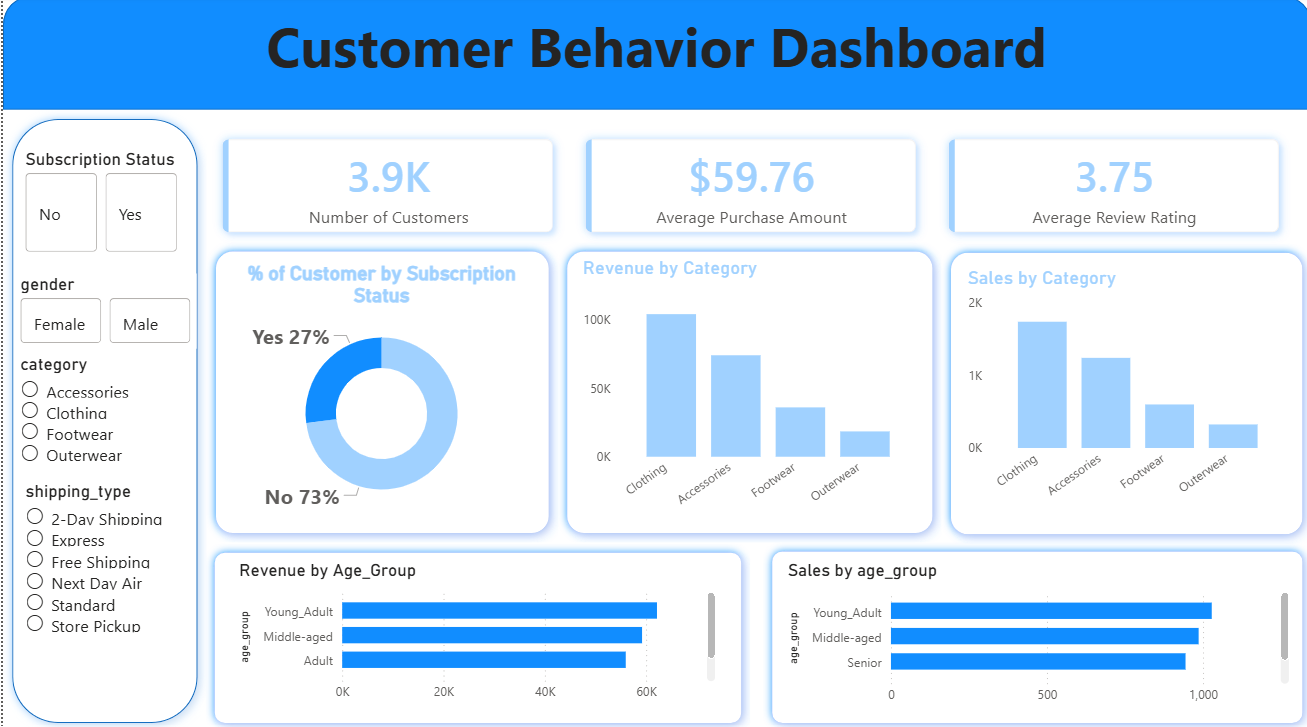

This screenshot's page, from the dashboard's own definition file:
{"tool":"powerbi","page":{"name":"Page 1","canvas":[1280,720],"ordinal":0},"visuals":[{"type":"cardVisual","fields":{"Data":["mytable.Number of customers","mytable.average purchase amount","mytable.average review rating"]},"box":[185.9,111.3,1093.2,149.2],"z":0},{"type":"shape","box":[0,0,1280.3,111.3],"z":1000},{"type":"textbox","box":[0,7.3,1279.1,94.2],"z":2000},{"type":"shape","box":[199.3,240.9,343.6,293.5],"z":3000},{"type":"donutChart","title":"% of Customer by Subscription Status","fields":{"Category":["mytable.subscription_status"],"Y":["CountNonNull(mytable.customer_id)"]},"box":[212.8,260.5,315.5,253.1],"z":4000},{"type":"shape","box":[542.9,240.9,375.4,293.5],"z":5000},{"type":"shape","box":[918.3,242.1,362,293.5],"z":6000},{"type":"clusteredColumnChart","title":"Revenue by Category","fields":{"Y":["Sum(mytable.purchase_amount)"],"Category":["mytable.category"]},"box":[562.5,255.6,337.5,265.4],"z":7000},{"type":"clusteredColumnChart","title":"Sales by Category","fields":{"Y":["CountNonNull(mytable.customer_id)"],"Category":["mytable.category"]},"box":[939.1,265.4,320.4,247],"z":8000},{"type":"shape","box":[0,111.3,199.3,609],"z":9000},{"type":"advancedSlicerVisual","fields":{"Values":["mytable.subscription_status"]},"box":[17.1,149.2,159,106.4],"z":10000},{"type":"advancedSlicerVisual","fields":{"Values":["mytable.gender"]},"box":[12.2,271.5,177.3,73.4],"z":11000},{"type":"listSlicer","fields":{"Values":["mytable.category"]},"box":[12.2,349.7,163.9,196.9],"z":12000},{"type":"listSlicer","fields":{"Values":["mytable.shipping_type"]},"box":[17.1,474.5,159,200.5],"z":13000},{"type":"shape","box":[743.5,534.4,536.8,185.9],"z":14000},{"type":"shape","box":[198.1,535.6,533.2,184.6],"z":15000},{"type":"clusteredBarChart","title":"Revenue by Age_Group","fields":{"Y":["Sum(mytable.purchase_amount)"],"Category":["mytable.age_group"]},"box":[226.2,551.5,475.7,148],"z":16000},{"type":"clusteredBarChart","title":"Sales by age_group","fields":{"Y":["CountNonNull(public customer.customer_id)"],"Category":["mytable.age_group"]},"box":[763,551.5,500.1,150.4],"z":17000}]}

Visuals, with their boxes in screenshot pixels (x1, y1, x2, y2), scaled from the page's 1280x720 canvas onto the 1307x727 screenshot:
cardVisual - mytable.Number of customers x mytable.average purchase amount: {"left": 190, "top": 112, "right": 1306, "bottom": 263}
shape: {"left": 0, "top": 0, "right": 1306, "bottom": 112}
textbox: {"left": 0, "top": 7, "right": 1306, "bottom": 102}
shape: {"left": 204, "top": 243, "right": 554, "bottom": 540}
"% of Customer by Subscription Status" donutChart: {"left": 217, "top": 263, "right": 539, "bottom": 519}
shape: {"left": 554, "top": 243, "right": 938, "bottom": 540}
shape: {"left": 938, "top": 244, "right": 1306, "bottom": 541}
"Revenue by Category" clusteredColumnChart: {"left": 574, "top": 258, "right": 919, "bottom": 526}
"Sales by Category" clusteredColumnChart: {"left": 959, "top": 268, "right": 1286, "bottom": 517}
shape: {"left": 0, "top": 112, "right": 204, "bottom": 726}
advancedSlicerVisual - mytable.subscription_status: {"left": 17, "top": 151, "right": 180, "bottom": 258}
advancedSlicerVisual - mytable.gender: {"left": 12, "top": 274, "right": 193, "bottom": 348}
listSlicer - mytable.category: {"left": 12, "top": 353, "right": 180, "bottom": 552}
listSlicer - mytable.shipping_type: {"left": 17, "top": 479, "right": 180, "bottom": 682}
shape: {"left": 759, "top": 540, "right": 1306, "bottom": 726}
shape: {"left": 202, "top": 541, "right": 747, "bottom": 726}
"Revenue by Age_Group" clusteredBarChart: {"left": 231, "top": 557, "right": 717, "bottom": 706}
"Sales by age_group" clusteredBarChart: {"left": 779, "top": 557, "right": 1290, "bottom": 709}
